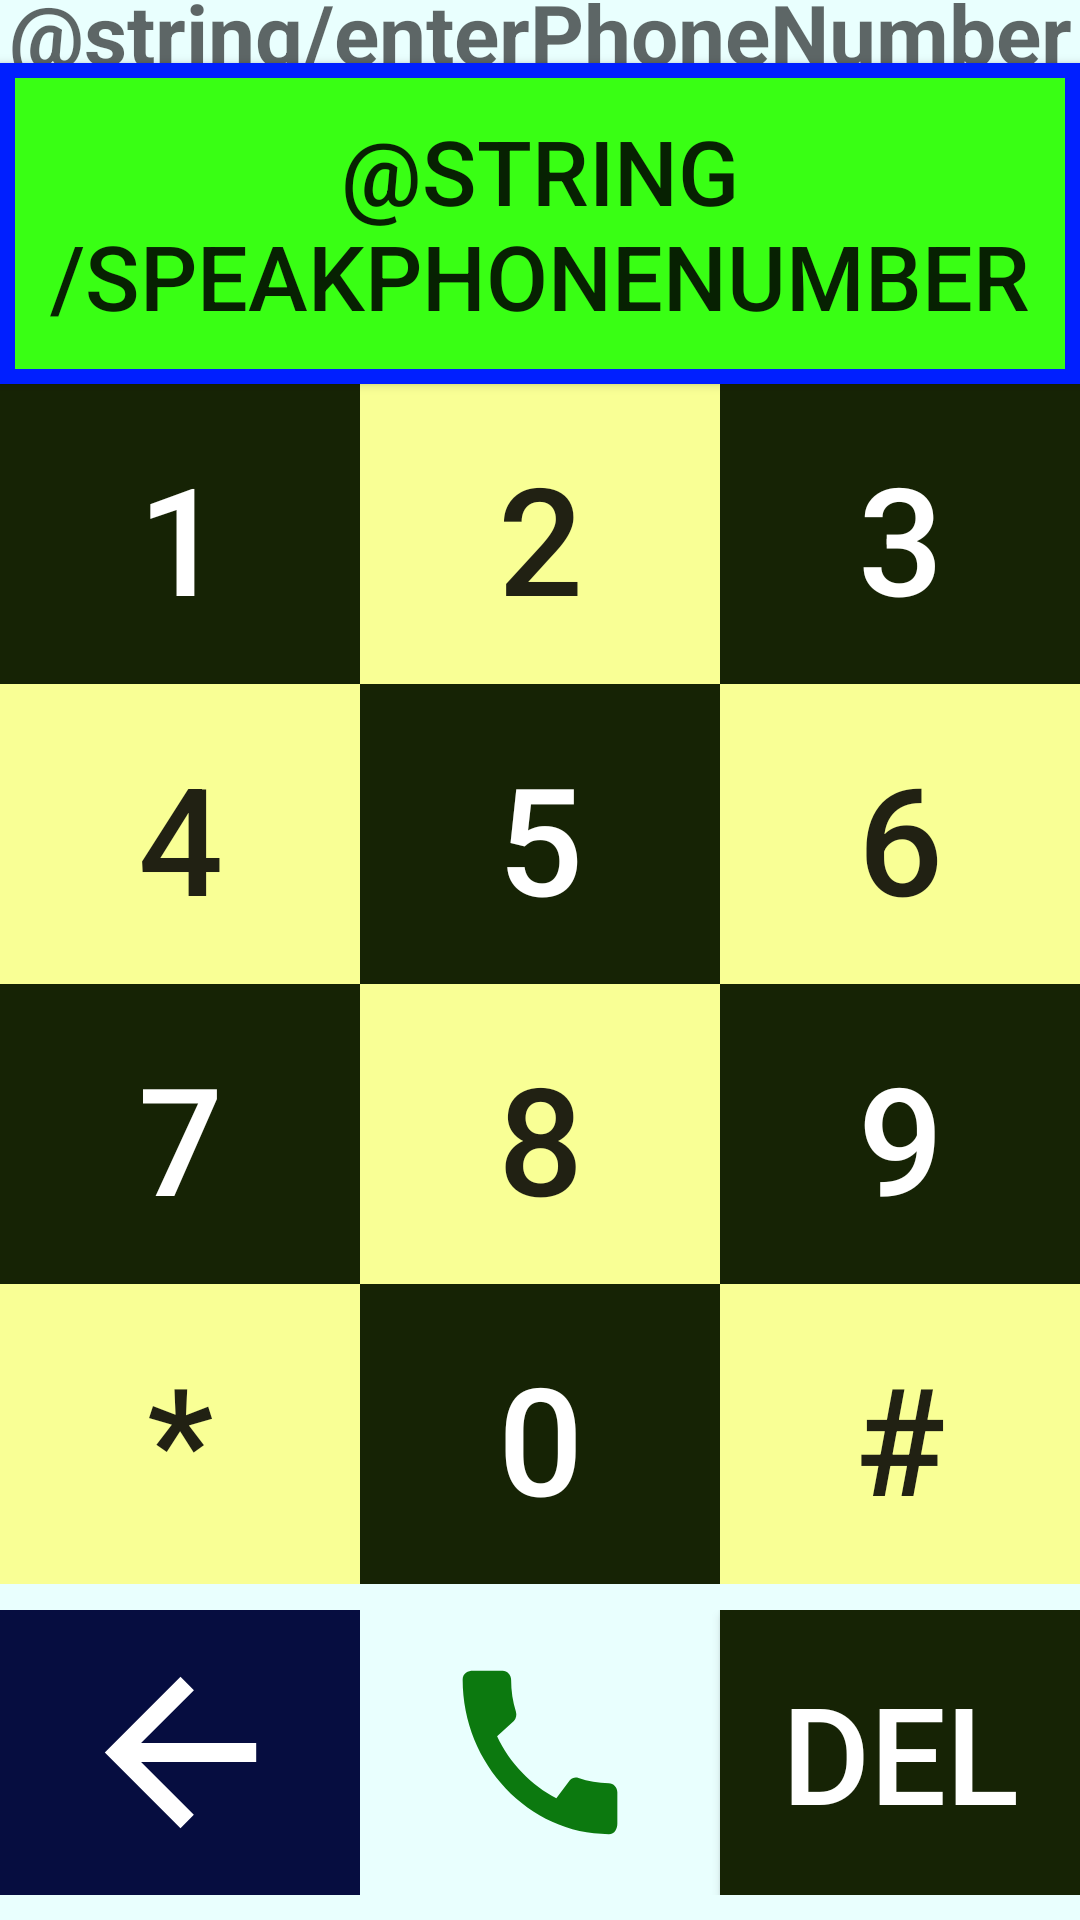

Icons on this 1080 × 1920 Android screen, each with the point to tap as (x,y):
back: (180,1752)
call: (540,1752)
